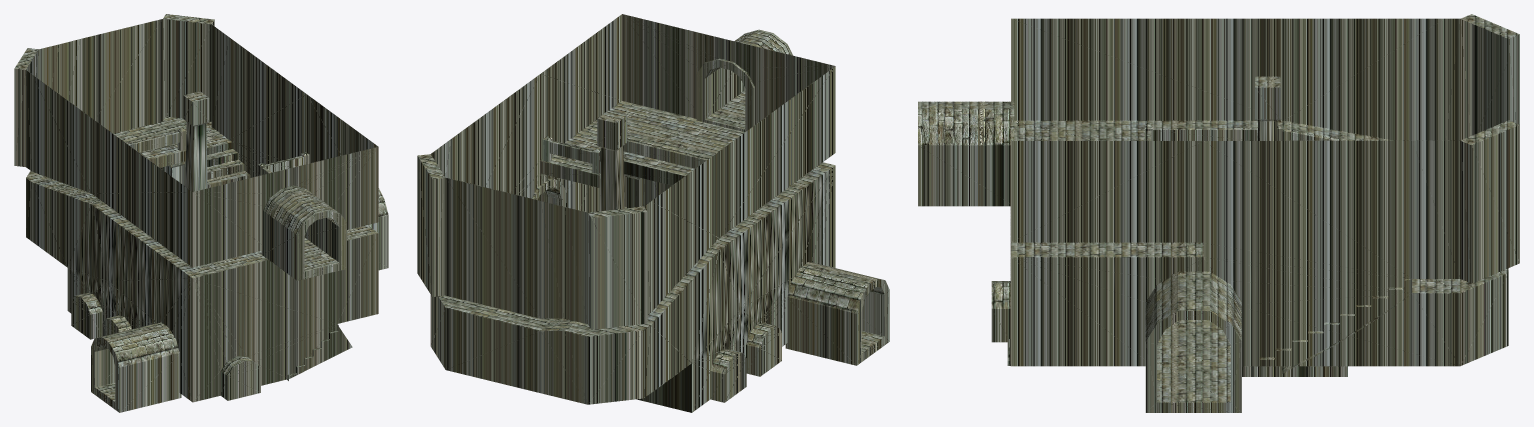
3 renders of one model, left to right at view 1: azimuth 30°, elevation 25°; view 2: azimuth 150°, elevation 25°; view 3: azimuth 270°, elevation 25°, orthographic. The views are drawn at different scales.
Visible parts, largest first — view 1: test5-col; view 2: test5-col; view 3: test5-col.
Boxes of the visible parts, x1,y1,x2,y2 form: test5-col: (14,14,388,412); test5-col: (417,14,889,412); test5-col: (918,14,1519,412).
Bounding box in the file's own units: 14.82 × 10.1 × 18.74.
Materials: 1 (1 with a texture image).
